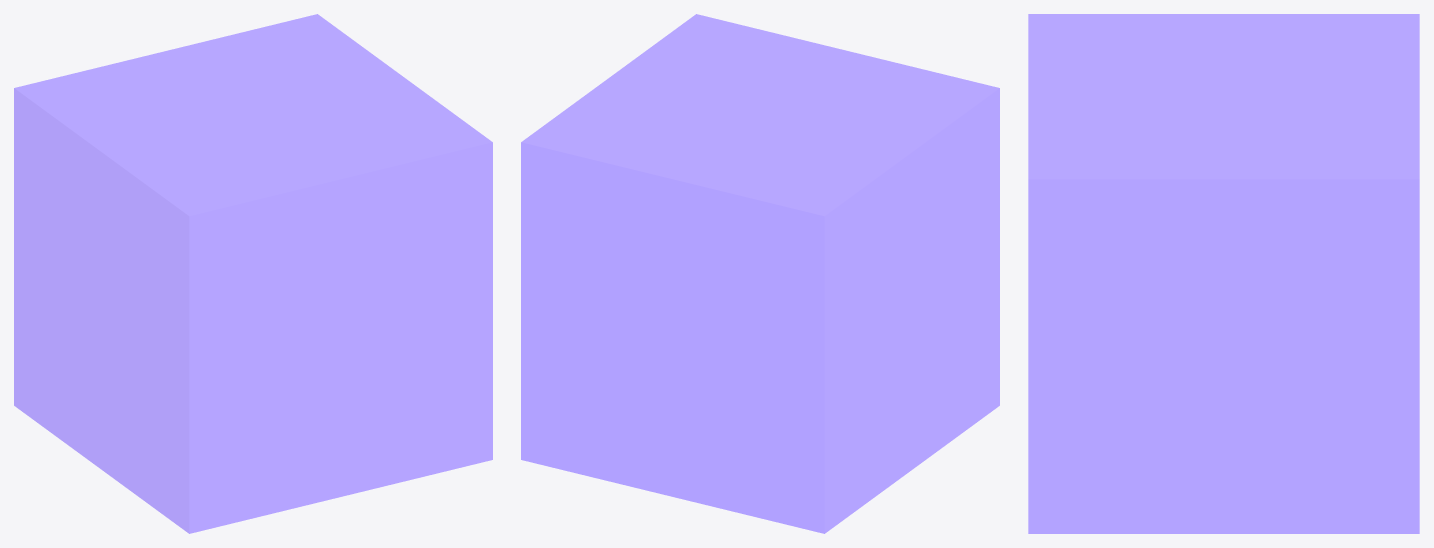
Rendered from Arc_Print.glb.
The picture shows the model from 3 angles, left to right: view 1: azimuth 30°, elevation 25°; view 2: azimuth 150°, elevation 25°; view 3: azimuth 270°, elevation 25°; orthographic projection. The views are drawn at different scales.
Visible parts, largest first — view 1: bounding_box; view 2: bounding_box; view 3: bounding_box.
Part boxes in pixels (x1,y1,x2,y2): bounding_box: (14, 14, 492, 533); bounding_box: (521, 14, 999, 533); bounding_box: (1028, 14, 1419, 533).
Size of the model in its own units: 1.6 by 1.6 by 1.6.
